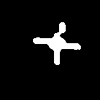single_crochet: (33, 22, 80, 64)
